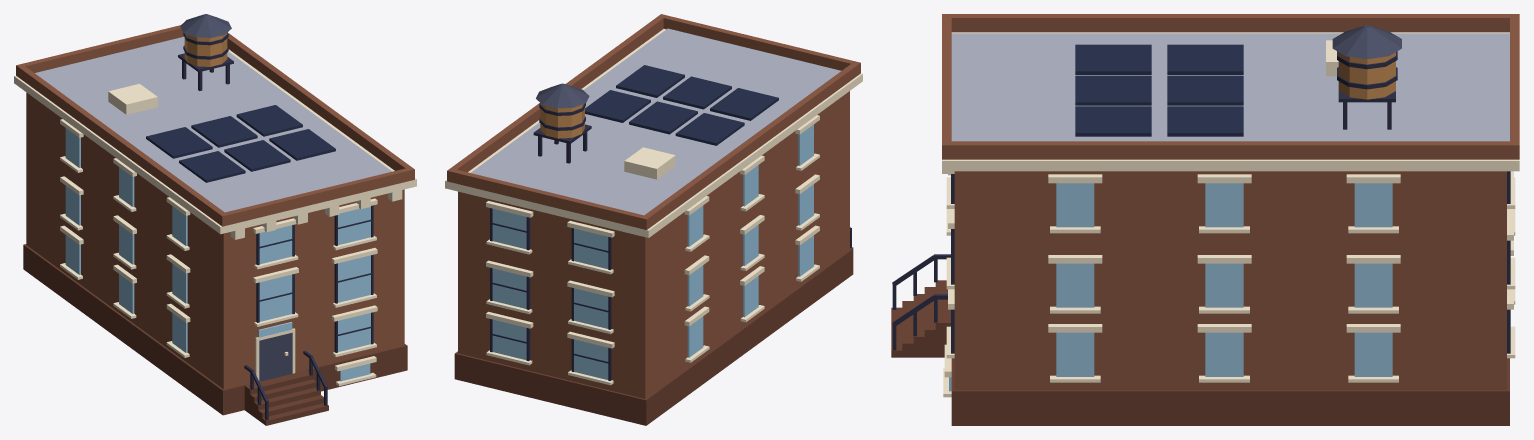
The model's file is house-1x2-3f-brownstone-a-solar.glb.
The picture shows the model from 3 angles, left to right: view 1: azimuth 30°, elevation 25°; view 2: azimuth 150°, elevation 25°; view 3: azimuth 270°, elevation 25°; orthographic projection. The views are drawn at different scales.
Visible parts, largest first — view 1: house-1x2-3f-brownstone-a-solar; view 2: house-1x2-3f-brownstone-a-solar; view 3: house-1x2-3f-brownstone-a-solar.
Boxes of the visible parts, x1,y1,x2,y2 form: house-1x2-3f-brownstone-a-solar: (14,14,416,425); house-1x2-3f-brownstone-a-solar: (445,14,862,425); house-1x2-3f-brownstone-a-solar: (891,14,1519,425).
Bounding box in the file's own units: 1 × 1.26 × 1.98.
1 material, 1 textured.
